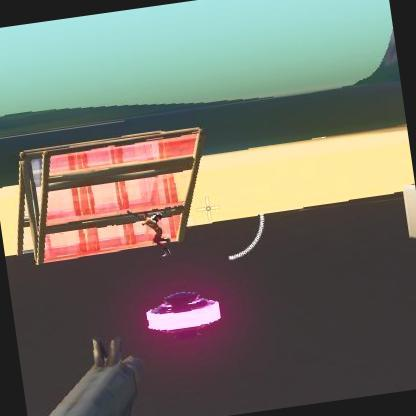person: (141, 205, 171, 256)
